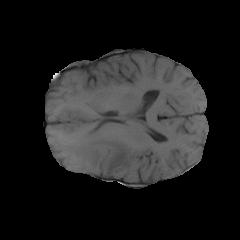glioma: (74, 130, 133, 175)
